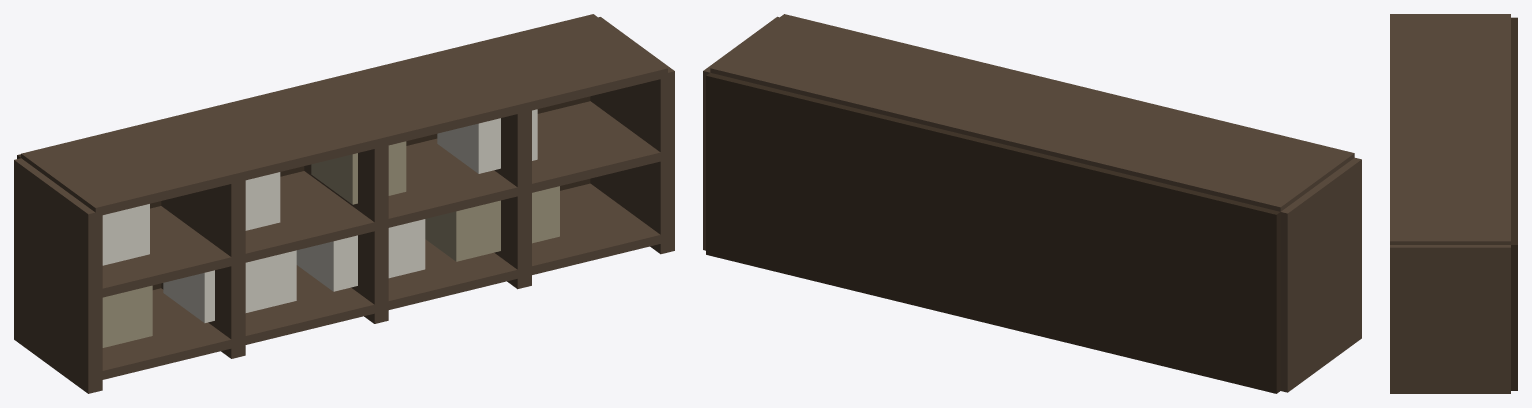
The model's file is s2_archive_shelf_low.glb.
3 views of the same model, side by side, from view 1: azimuth 30°, elevation 25°; view 2: azimuth 150°, elevation 25°; view 3: azimuth 270°, elevation 25° (orthographic). The views are drawn at different scales.
Parts seen in each view (by area): view 1: s2_archive_shelf_low; view 2: s2_archive_shelf_low; view 3: s2_archive_shelf_low.
Boxes of the visible parts, bbox=[...] form: s2_archive_shelf_low: bbox=[14, 14, 674, 393]; s2_archive_shelf_low: bbox=[703, 14, 1361, 393]; s2_archive_shelf_low: bbox=[1390, 14, 1517, 393].
Size of the model in its own units: 4.1 by 1.23 by 0.95.
